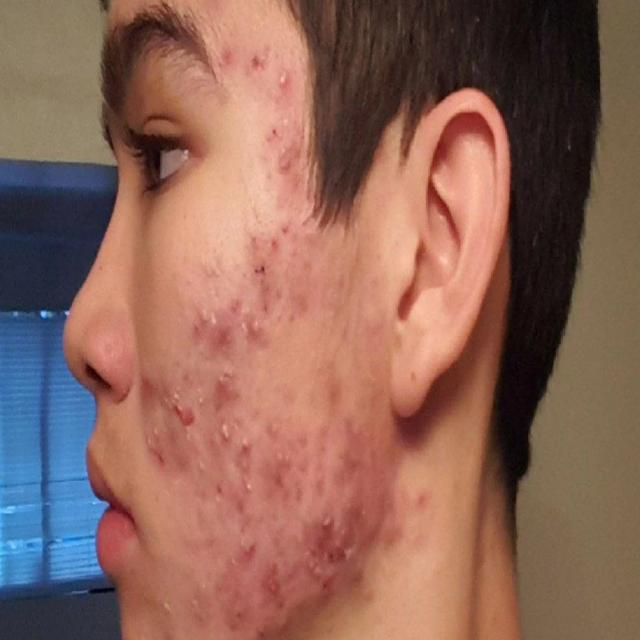Acne: (142, 347, 368, 632), (192, 209, 320, 346), (218, 36, 302, 182), (370, 458, 426, 564)
